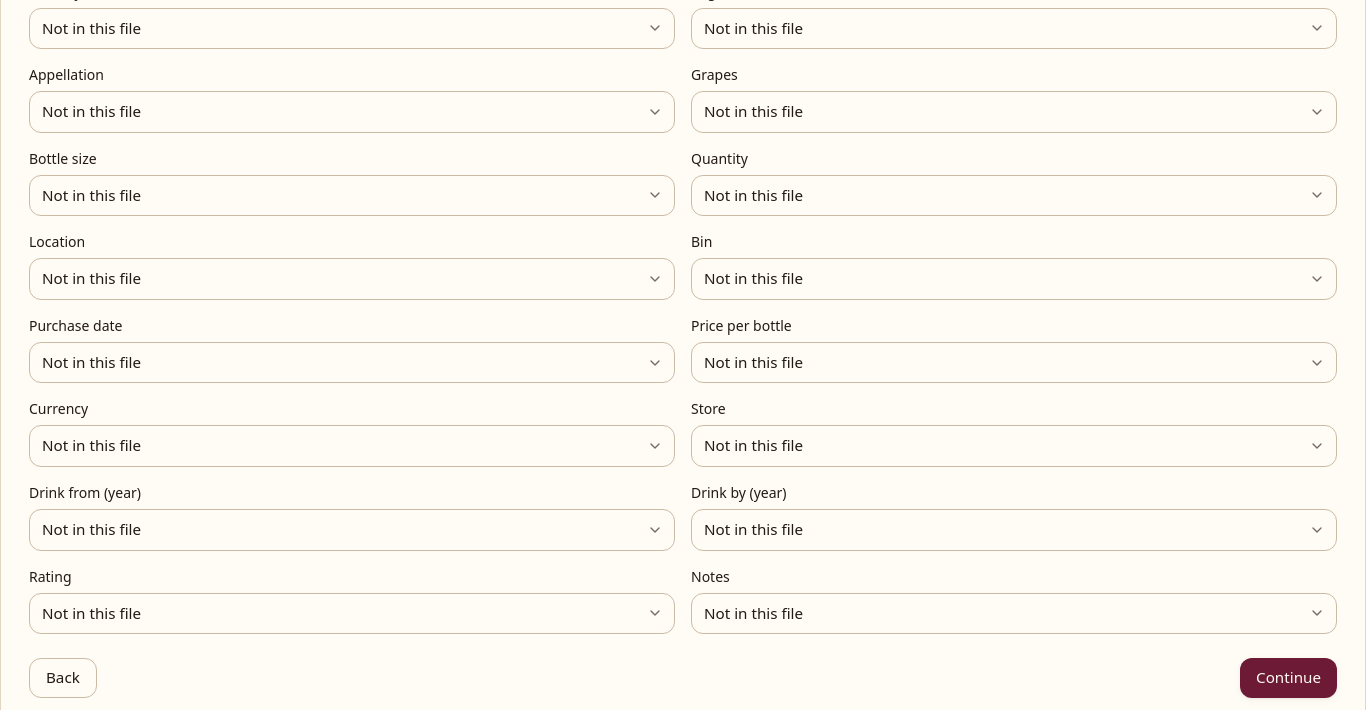
Scenario: ImportPage › refuses to continue without a producer column mapped
Earlier steps of the test are not shown.
(page scrolled)
Click the button "Continue": (1289, 678) [1240, 658, 1337, 698]
(page scrolled)
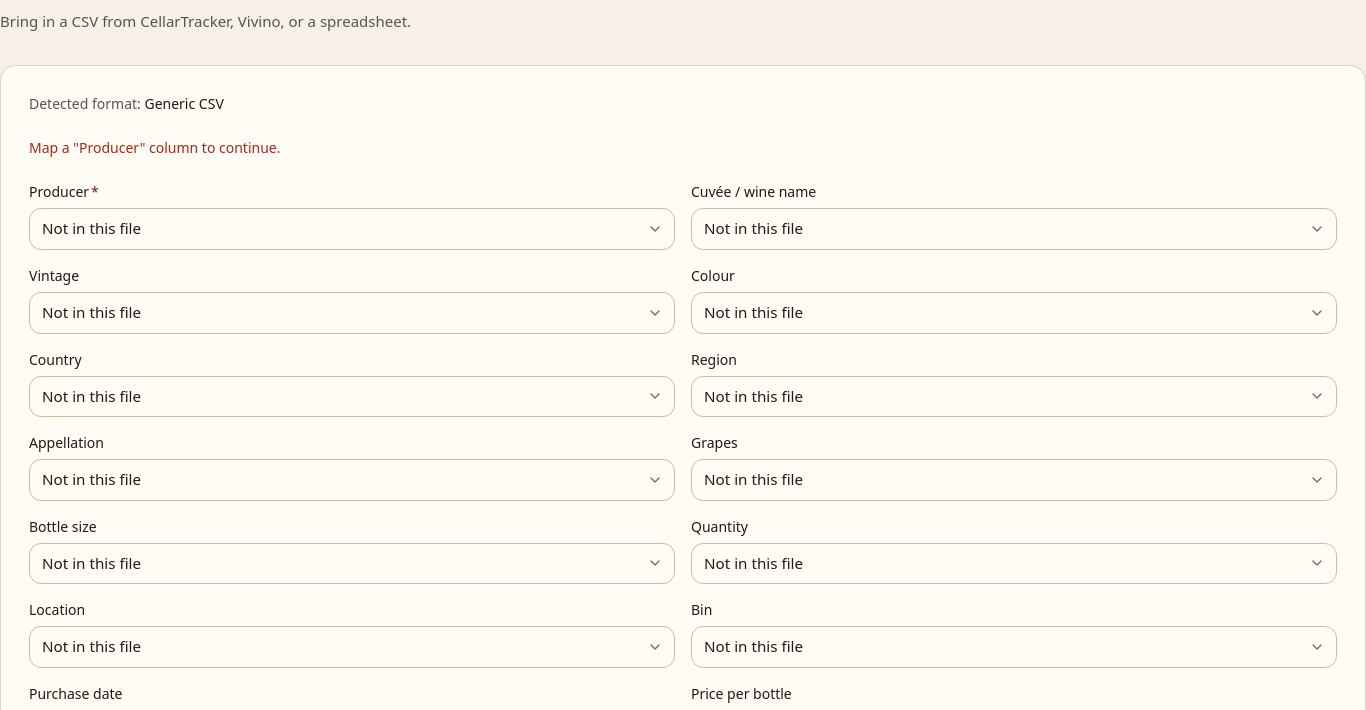
Expected: the message shows "Producer", [29, 138, 280, 157]
